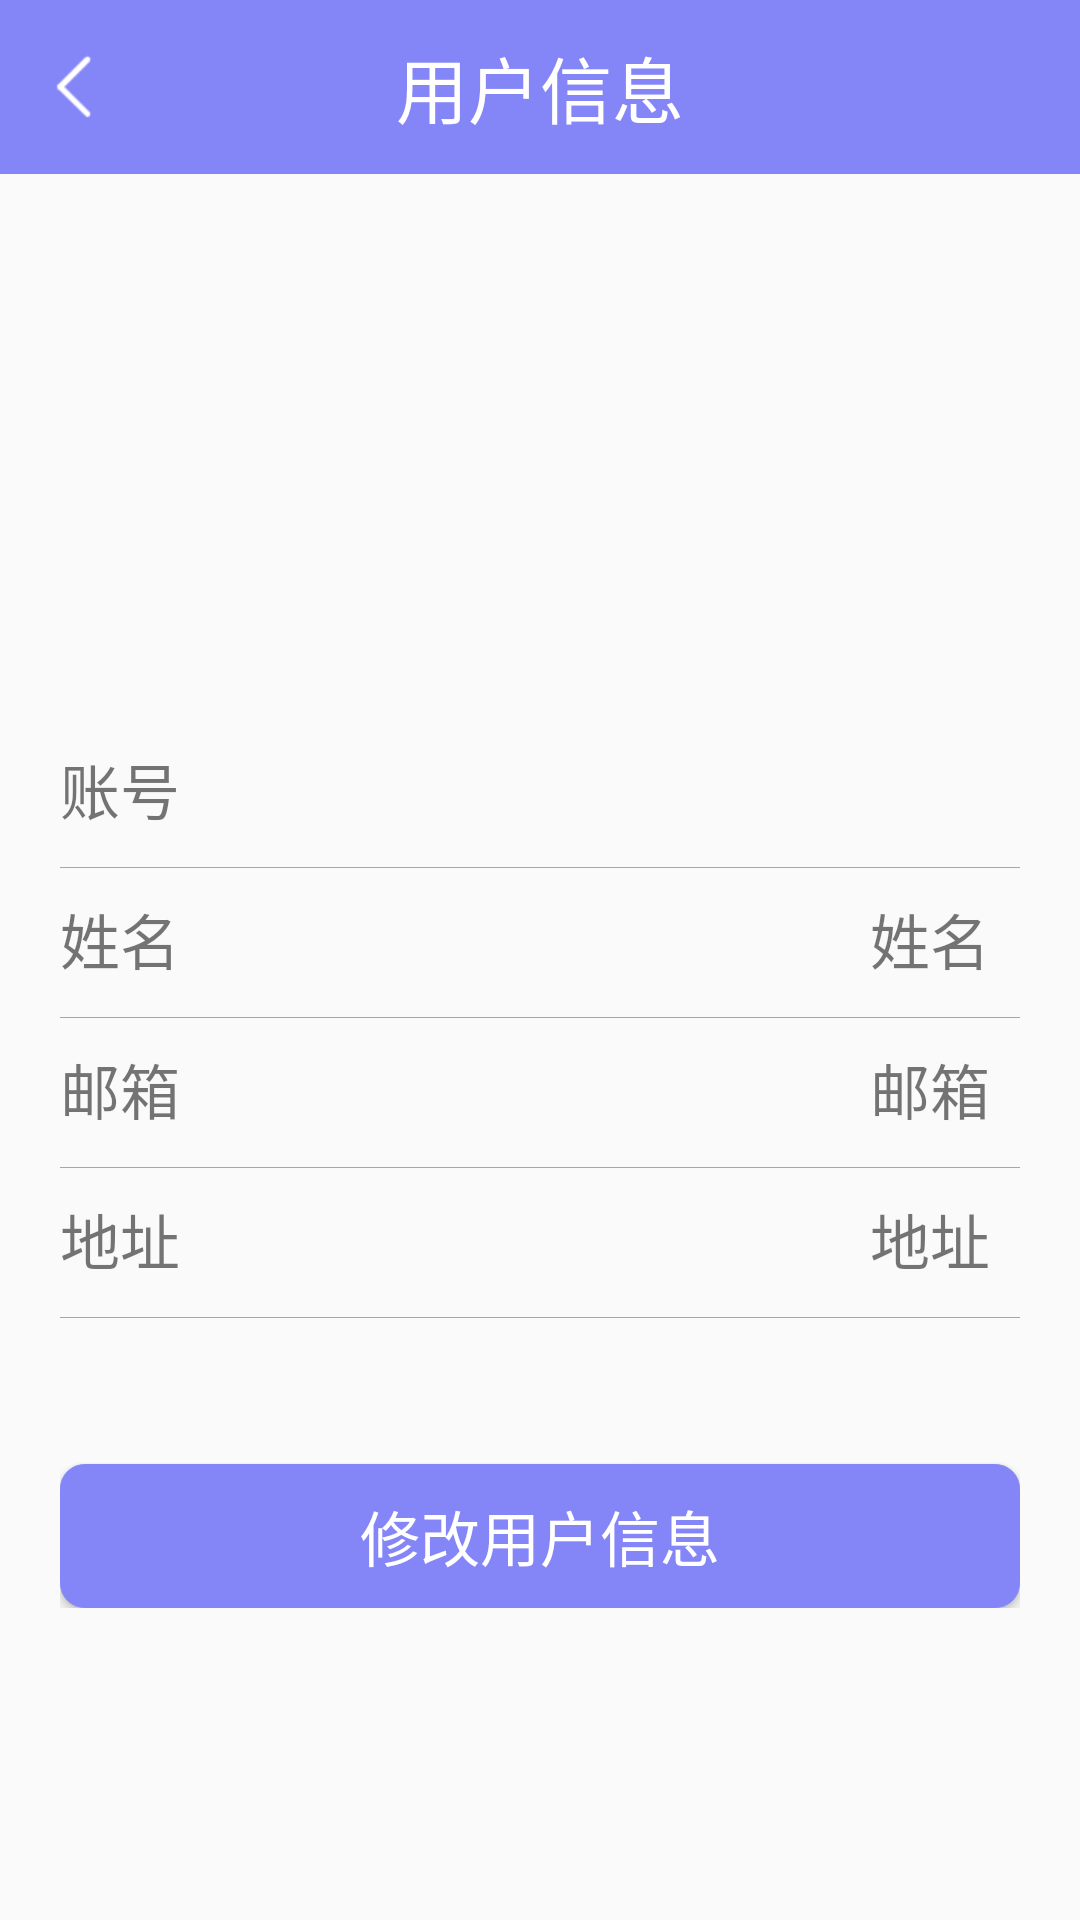

Named icons in this screenshot (1080*1920) and their centers, point (x, y):
back: point (74, 86)
